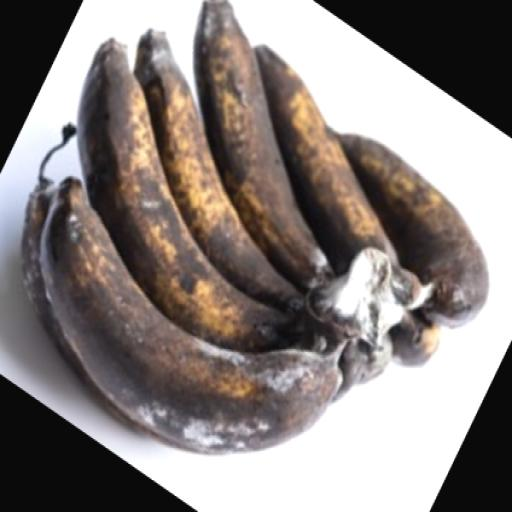banana-overripe: (21, 0, 498, 506)
